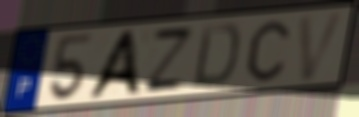5: (46, 31, 94, 104)
A: (82, 27, 144, 101)
C: (244, 18, 292, 84)
D: (190, 22, 243, 90)
V: (296, 8, 349, 84)
Z: (140, 26, 198, 94)
